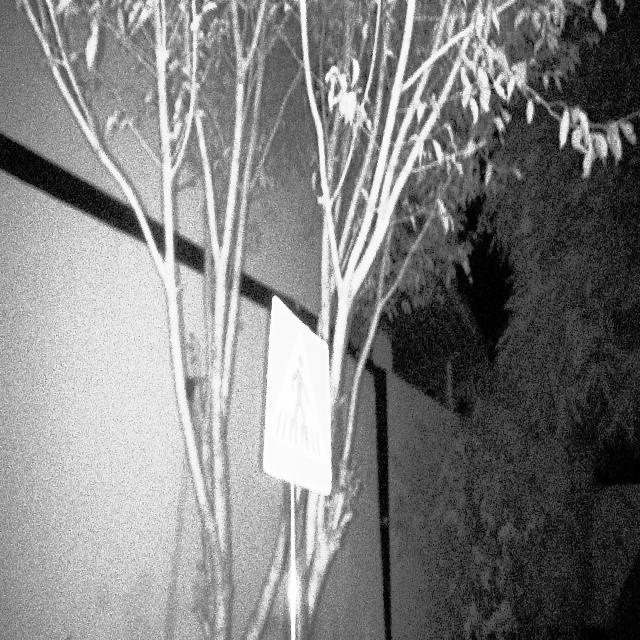Sign: (260, 295, 334, 499)
Tree: (99, 0, 263, 640), (292, 0, 463, 334)
